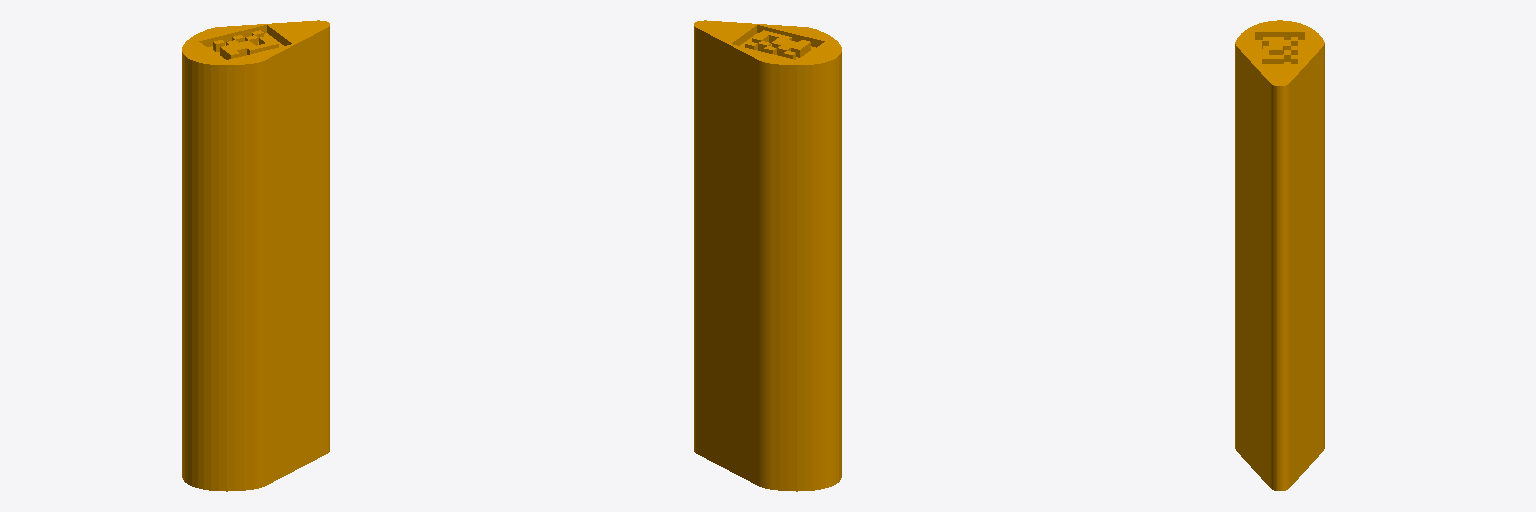
robot.urdf — 50x30_Teardrop:
<?xml version="1.0" ?>
<robot name="50x30_Teardrop">

    <link name="50x30_Teardrop">
        <visual>
            <origin rpy="1.5707963267948966 0 0" xyz="-.0025 0 -0.0"/>
            <geometry>
                <mesh filename="Shapes/50x30_teardrop.obj" scale="0.8165 1 0.5443"/>
            </geometry>
        </visual>
        <collision>
            <origin rpy="1.5707963267948966 0 0" xyz="-.0025 0 -0.0"/>
            <geometry>
                <mesh filename="Shapes/50x30_teardrop.obj" scale="0.8165 1 0.5443"/>
            </geometry>
        </collision>
        <inertial>
            <mass value="0.3"/>
            <inertia ixx="0.000029435425" ixy="0.0" ixz="0.0" iyy="0.000029435425" iyz="0.0" izz="0.00000725805"/>
        </inertial>
    </link>

</robot>

--- Facts derived from the render (not from the file) ---
Views: 3 orthographic renders of the robot side by side, from view 1: azimuth 30°, elevation 25°; view 2: azimuth 150°, elevation 25°; view 3: azimuth 270°, elevation 25°.
Robot: 50x30_Teardrop — 1 links, 0 joints (none); root link 50x30_Teardrop; default pose: every joint at zero.
Links seen in each view (by area): view 1: 50x30_Teardrop; view 2: 50x30_Teardrop; view 3: 50x30_Teardrop.
Link boxes in pixels (x1=…): 50x30_Teardrop: x1=182, y1=20, x2=329, y2=491; 50x30_Teardrop: x1=694, y1=20, x2=841, y2=491; 50x30_Teardrop: x1=1235, y1=20, x2=1324, y2=490.
Bounding box of the posed robot: 0.0367 × 0.021 × 0.105 m (x, y, z).
Meshes: 1 distinct files referenced, 1 mesh visuals loaded (1 OBJ).
